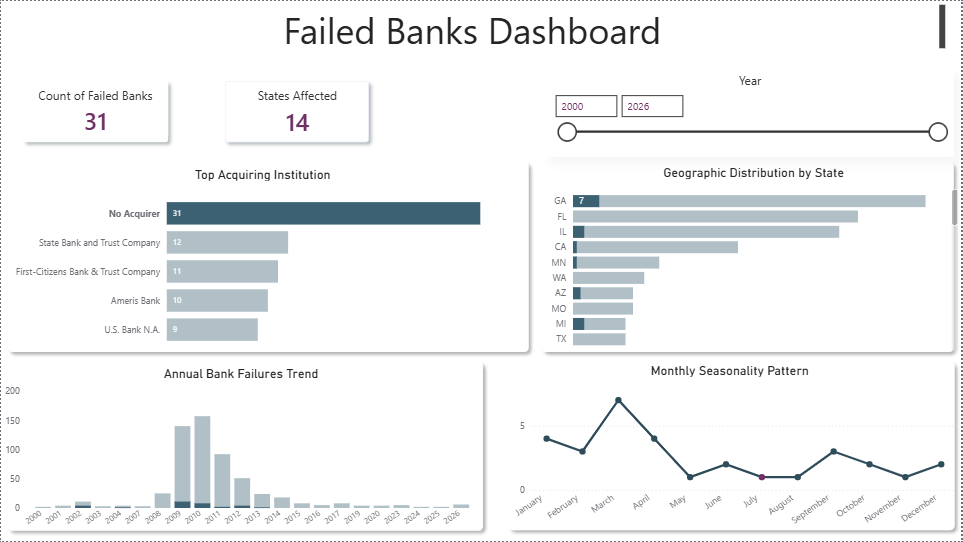

Layout of this report page (visuals, bound fields, positions):
{"tool":"powerbi","page":{"name":"Overview","canvas":[1280,720],"ordinal":0},"visuals":[{"type":"shape","box":[667.5,472.5,612.5,242.5],"z":1000},{"type":"shape","box":[0,471.7,651.7,243.3],"z":2000},{"type":"shape","box":[0,205.1,712.6,271.7],"z":2500},{"type":"shape","box":[712.6,205.1,567.4,271.7],"z":2750},{"type":"barChart","title":"Geographic Distribution by State","fields":{"Category":["Failed Banks.State "],"Y":["CountNonNull(Failed Banks.Bank Name )"]},"box":[726,218,554,254],"z":3000},{"type":"lineStackedColumnComboChart","title":"Annual Bank Failures Trend","fields":{"Category":["Calendar.Date.Variation.Date Hierarchy.Year","Calendar.Date.Variation.Date Hierarchy.Month"],"Y":["CountNonNull(Failed Banks.Bank Name )"]},"box":[0,480,640,240],"z":4000},{"type":"lineChart","title":"Monthly Seasonality Pattern","fields":{"Category":["Calendar.Month"],"Y":["CountNonNull(Failed Banks.Bank Name )"]},"box":[665,480,612.5,240],"z":5000},{"type":"textbox","box":[0,0,1264.3,70.6],"z":6000},{"type":"cardVisual","fields":{"Data":["Count(Failed Banks.State )"]},"box":[268.8,77.5,250,140],"z":7000},{"type":"slicer","title":"Year","fields":{"Values":["Calendar.Year"]},"box":[727.2,95,544.3,113.8],"z":8000},{"type":"clusteredBarChart","title":"Top Acquiring Institution ","fields":{"Category":["Failed Banks.Acquiring Institution "],"Y":["CountNonNull(Failed Banks.Bank Name )"]},"box":[0,218,698,254],"z":9000},{"type":"cardVisual","fields":{"Data":["_measuress.Count of Failed Banks"]},"box":[0,77.5,252.5,140],"z":10000}]}

Visuals, with their boxes in screenshot pixels (x1, y1, x2, y2), scaled from the page's 1280x720 canvas onto the 963x542 screenshot:
shape: {"left": 502, "top": 356, "right": 962, "bottom": 538}
shape: {"left": 0, "top": 355, "right": 490, "bottom": 538}
shape: {"left": 0, "top": 154, "right": 536, "bottom": 359}
shape: {"left": 536, "top": 154, "right": 962, "bottom": 359}
"Geographic Distribution by State" barChart: {"left": 546, "top": 164, "right": 962, "bottom": 355}
"Annual Bank Failures Trend" lineStackedColumnComboChart: {"left": 0, "top": 361, "right": 482, "bottom": 541}
"Monthly Seasonality Pattern" lineChart: {"left": 500, "top": 361, "right": 961, "bottom": 541}
textbox: {"left": 0, "top": 0, "right": 951, "bottom": 53}
cardVisual - Count(Failed Banks.State ): {"left": 202, "top": 58, "right": 390, "bottom": 164}
"Year" slicer: {"left": 547, "top": 72, "right": 957, "bottom": 157}
"Top Acquiring Institution " clusteredBarChart: {"left": 0, "top": 164, "right": 525, "bottom": 355}
cardVisual - _measuress.Count of Failed Banks: {"left": 0, "top": 58, "right": 190, "bottom": 164}
